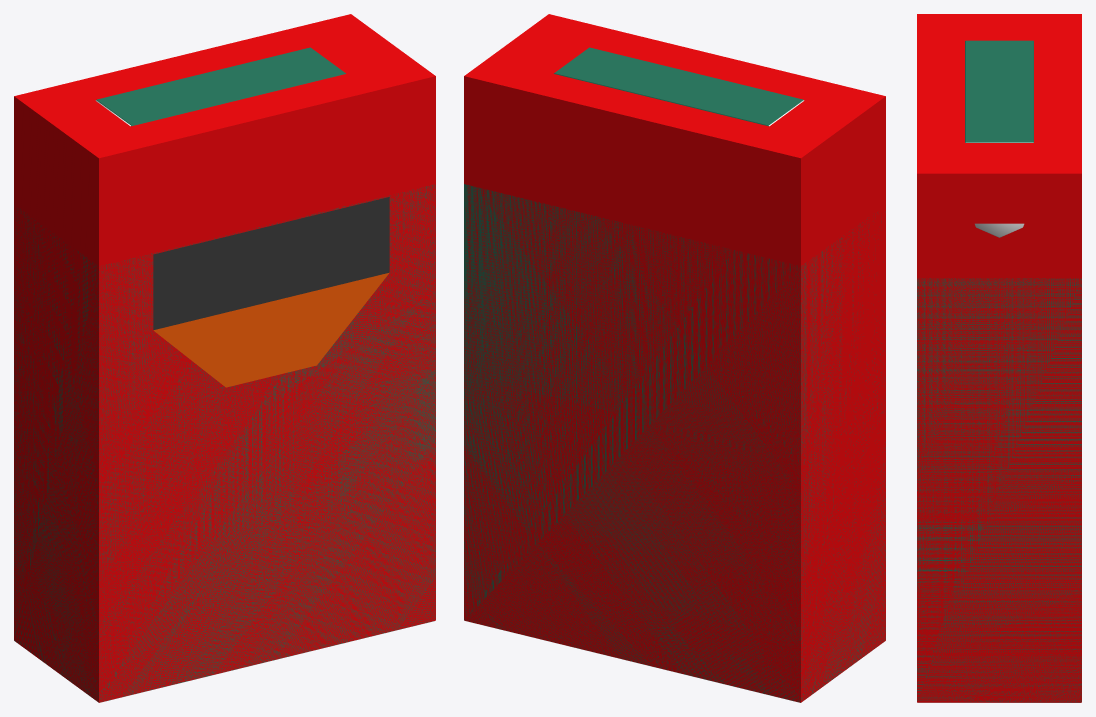
The model's file is clutter_workshop_green_can.dae.
3 renders of one model, left to right at view 1: azimuth 30°, elevation 25°; view 2: azimuth 150°, elevation 25°; view 3: azimuth 270°, elevation 25°, orthographic. The views are drawn at different scales.
Parts seen in each view (by area): view 1: Colmesh_clutter_workshop_green_can-1, clutter_workshop_green_can_a30; view 2: Colmesh_clutter_workshop_green_can-1, clutter_workshop_green_can_a30; view 3: Colmesh_clutter_workshop_green_can-1, clutter_workshop_green_can_a30, clutter_workshop_green_can_a90.
Boxes of the visible parts, left/top/right/bottom form: Colmesh_clutter_workshop_green_can-1: left=14, top=14, right=435, bottom=702; clutter_workshop_green_can_a30: left=14, top=47, right=435, bottom=701; Colmesh_clutter_workshop_green_can-1: left=464, top=14, right=885, bottom=702; clutter_workshop_green_can_a30: left=464, top=47, right=885, bottom=701; Colmesh_clutter_workshop_green_can-1: left=917, top=14, right=1081, bottom=702; clutter_workshop_green_can_a30: left=917, top=40, right=1081, bottom=702; clutter_workshop_green_can_a90: left=918, top=142, right=1080, bottom=702.
Size of the model in its own units: 0.3289 by 0.1434 by 0.4998.
